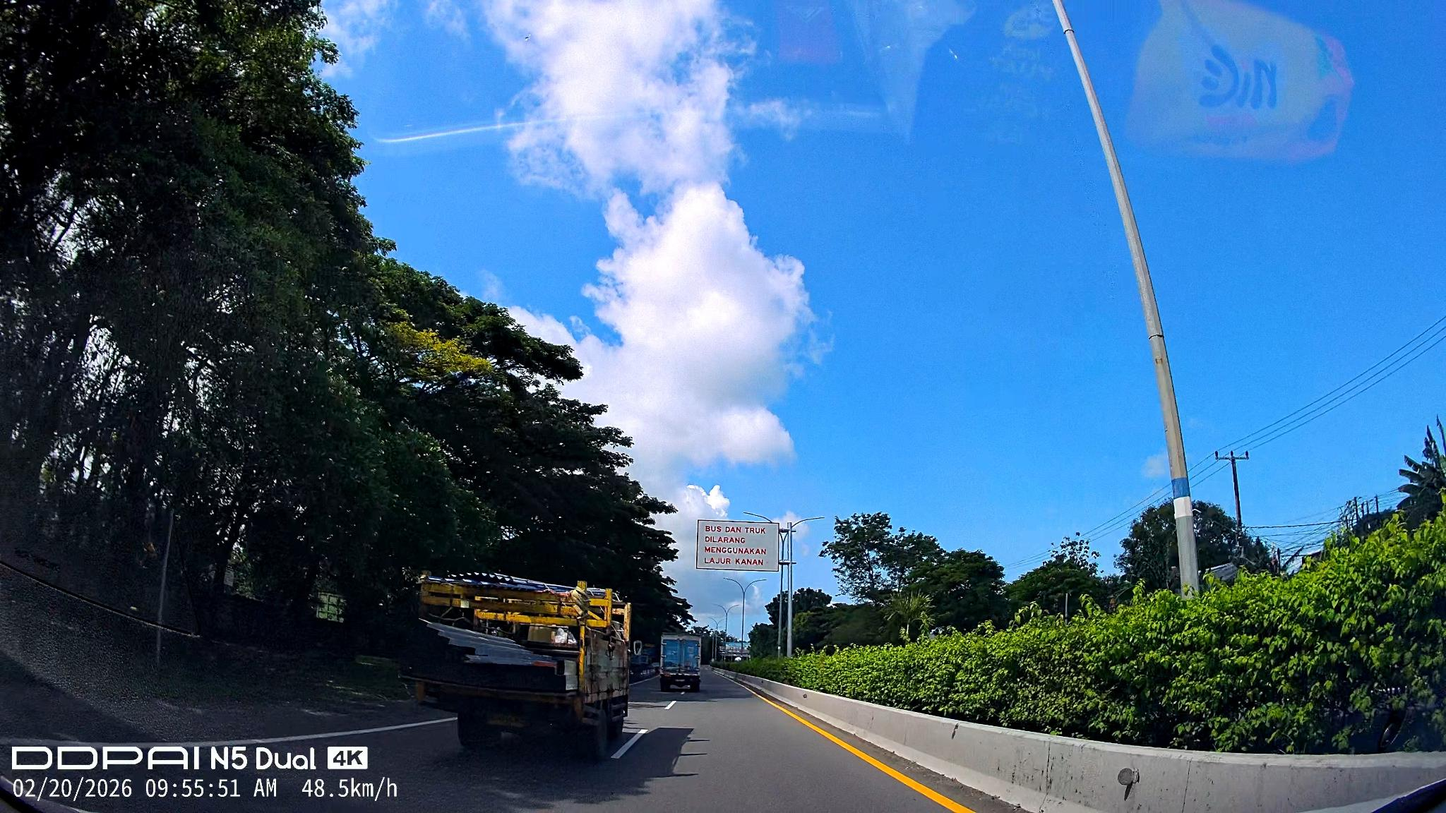rambu_teks: (696, 519, 781, 573)
